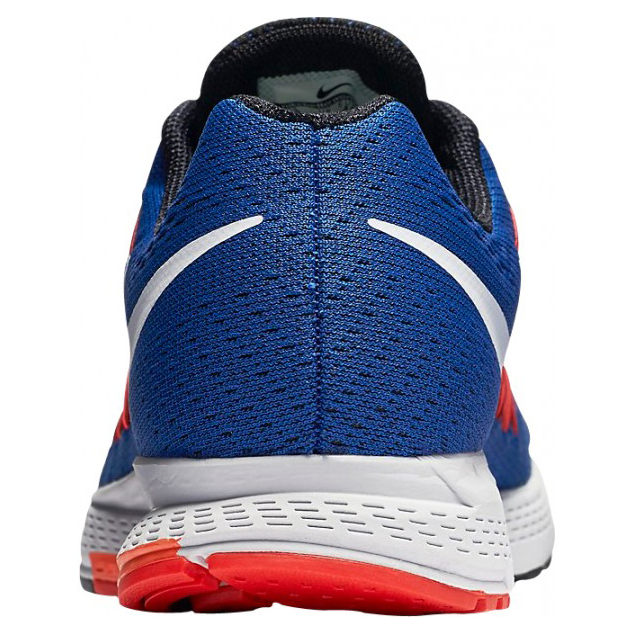Nike: (309, 76, 358, 101)
